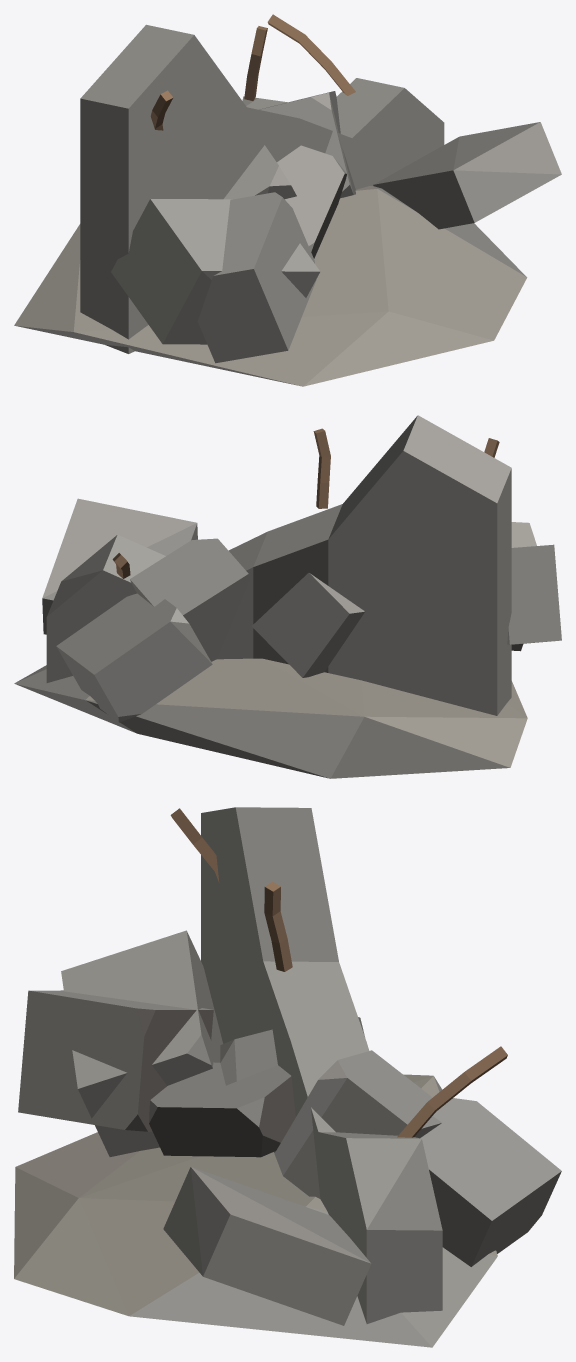
File: rubble_1.glb
3 renders of one model, top to bottom at view 1: azimuth 30°, elevation 25°; view 2: azimuth 150°, elevation 25°; view 3: azimuth 270°, elevation 25°, orthographic. The views are drawn at different scales.
Parts seen in each view (by area): view 1: Body; view 2: Body; view 3: Body.
Part boxes in pixels (x1,y1,x2,y2): Body: (14,14,561,386); Body: (14,415,561,778); Body: (14,807,561,1347).
Size of the model in its own units: 2.93 by 1.65 by 2.35.
